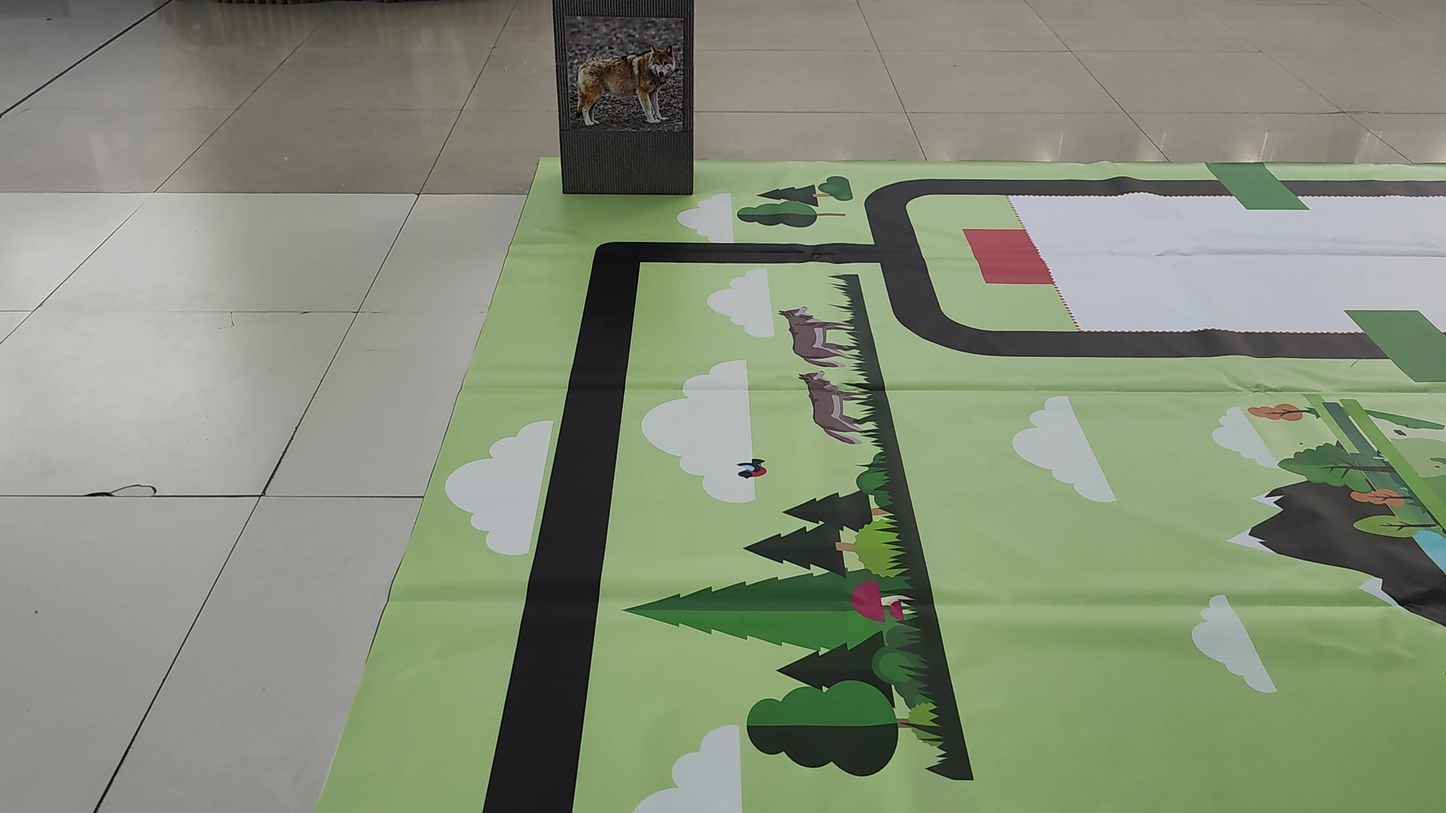wolf: (567, 21, 686, 129)
